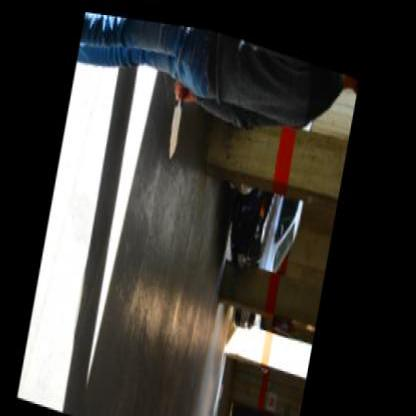knife: (166, 81, 190, 156)
